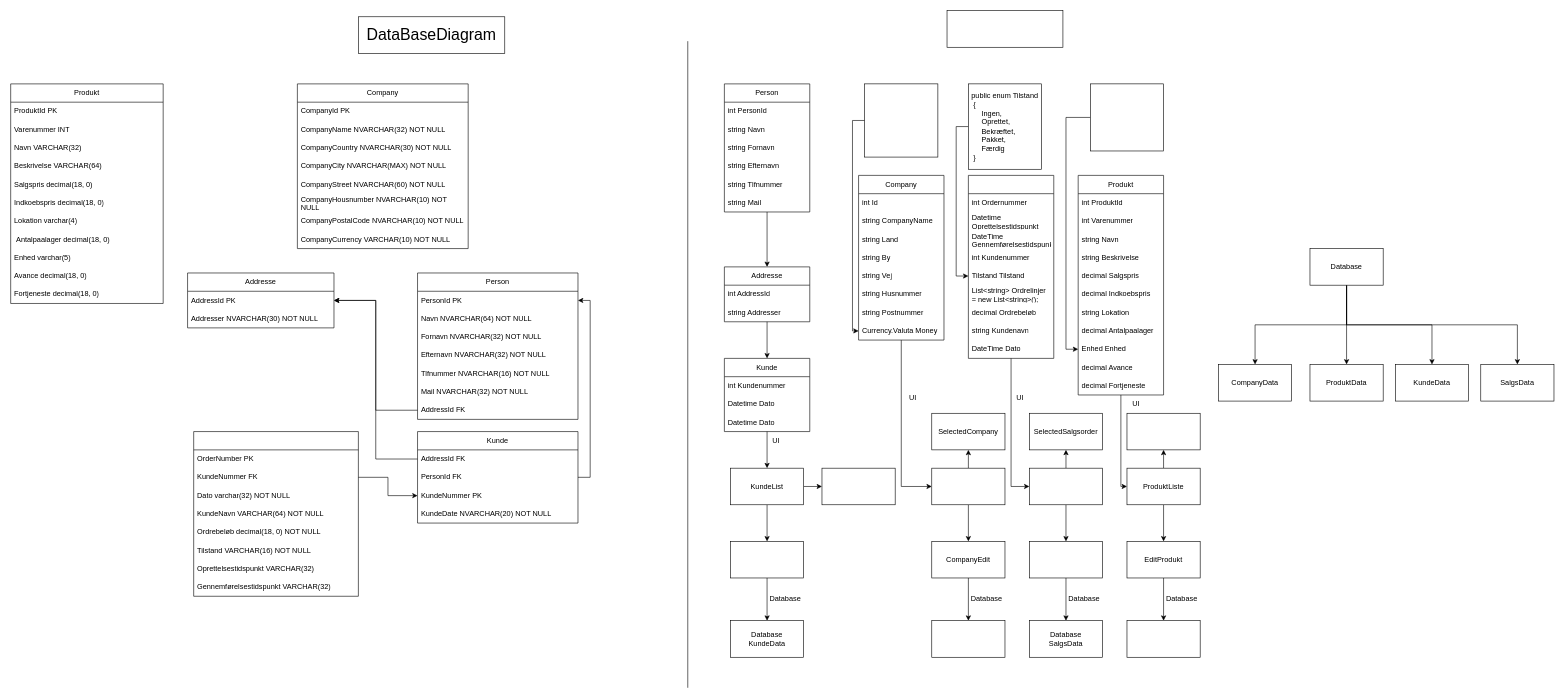
This 1565x699 diagram has some shape labels left out. The shapes that lost their labels are listed below. From the top down, each one's box as (x1, y1, x2, y2) in pixels, then its label:
(946, 10, 1063, 47): ClassDiagram
(864, 83, 938, 157): public enum Valuta { DKK, SEK, USD, EURO }
(1090, 83, 1164, 151): public enum Enhed { Styk, Timer, Meter }
(968, 175, 1054, 358): SalgsordreHoved
(1126, 413, 1200, 450): SelectedProduct
(821, 468, 895, 505): SelectedKund
(931, 468, 1005, 505): CompanyList
(1029, 468, 1103, 505): Salgsdordrelists
(193, 431, 358, 596): Salgsordre
(730, 541, 804, 578): KundeEdit
(1029, 541, 1103, 578): EditSalgsordrehoved
(931, 620, 1005, 657): Database CompanyData
(1126, 620, 1200, 657): Database ProduktData
